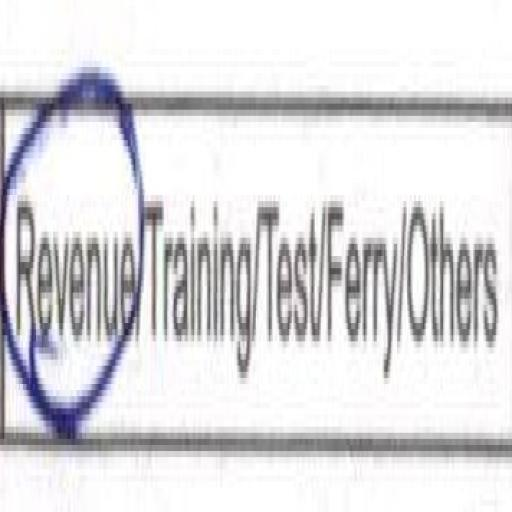check: (1, 20, 145, 496)
